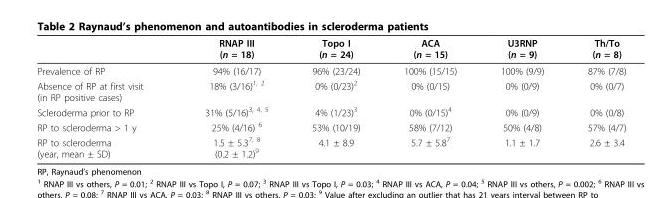table: (36, 36, 625, 159)
table column: (36, 36, 173, 159), (173, 36, 289, 159), (381, 36, 478, 159), (289, 36, 381, 159), (478, 36, 565, 159), (565, 36, 625, 159)
table column header: (36, 36, 625, 62)
table row: (36, 36, 625, 62), (36, 77, 625, 103), (36, 133, 625, 159), (36, 62, 625, 77), (36, 103, 625, 118), (36, 118, 625, 133)
